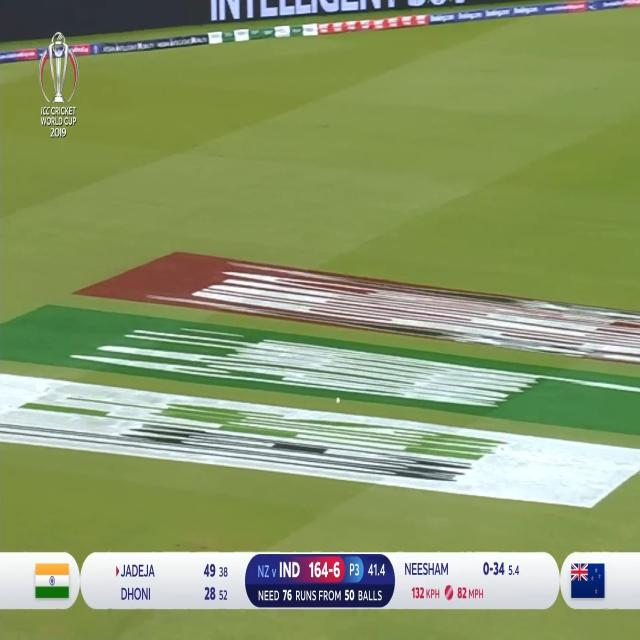ball: (333, 389, 343, 409)
